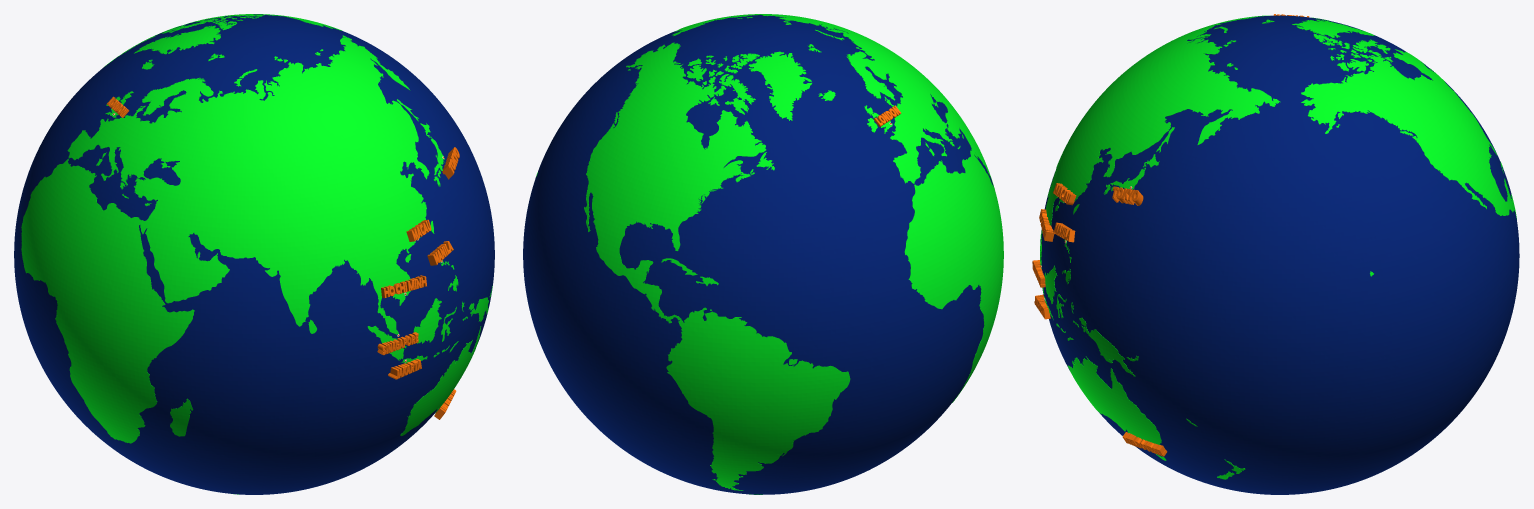
The model's file is globeMacau.glb.
3 renders of one model, left to right at view 1: azimuth 30°, elevation 25°; view 2: azimuth 150°, elevation 25°; view 3: azimuth 270°, elevation 25°, orthographic.
Parts seen in each view (by area): view 1: Object_2, Object_20, Object_16, Object_17, Object_12, Object_13, HochiText; view 2: Object_2, Object_19, Object_20, Object_17, Object_15; view 3: Object_2, Object_20, Object_19, Object_16, Object_14, Object_17, Object_13.
Boxes of the visible parts, x1,y1,x2,y2 form: Object_2: (14, 14, 494, 494); Object_20: (21, 35, 429, 443); Object_16: (400, 326, 481, 435); Object_17: (134, 25, 220, 54); Object_12: (170, 14, 456, 436); Object_13: (105, 91, 444, 343); HochiText: (381, 275, 426, 298); Object_2: (523, 15, 993, 494); Object_19: (584, 42, 850, 488); Object_20: (672, 14, 1003, 402); Object_17: (748, 51, 811, 120); Object_15: (719, 74, 755, 114); Object_2: (1040, 15, 1519, 494); Object_20: (1040, 15, 1280, 265); Object_19: (1301, 49, 1516, 219); Object_16: (1068, 356, 1161, 444); Object_14: (1079, 33, 1342, 376); Object_17: (1292, 19, 1374, 37); Object_13: (1044, 167, 1145, 303).
Size of the model in its own units: 2 by 2 by 2.03.
